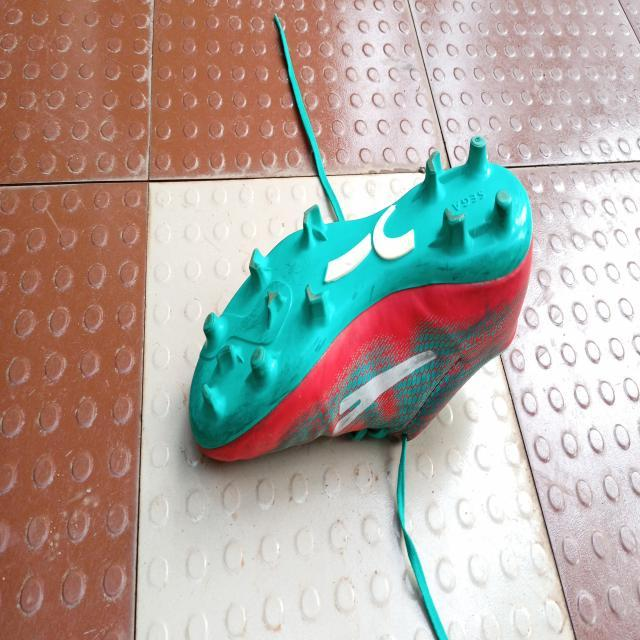shoe: (187, 133, 534, 466)
